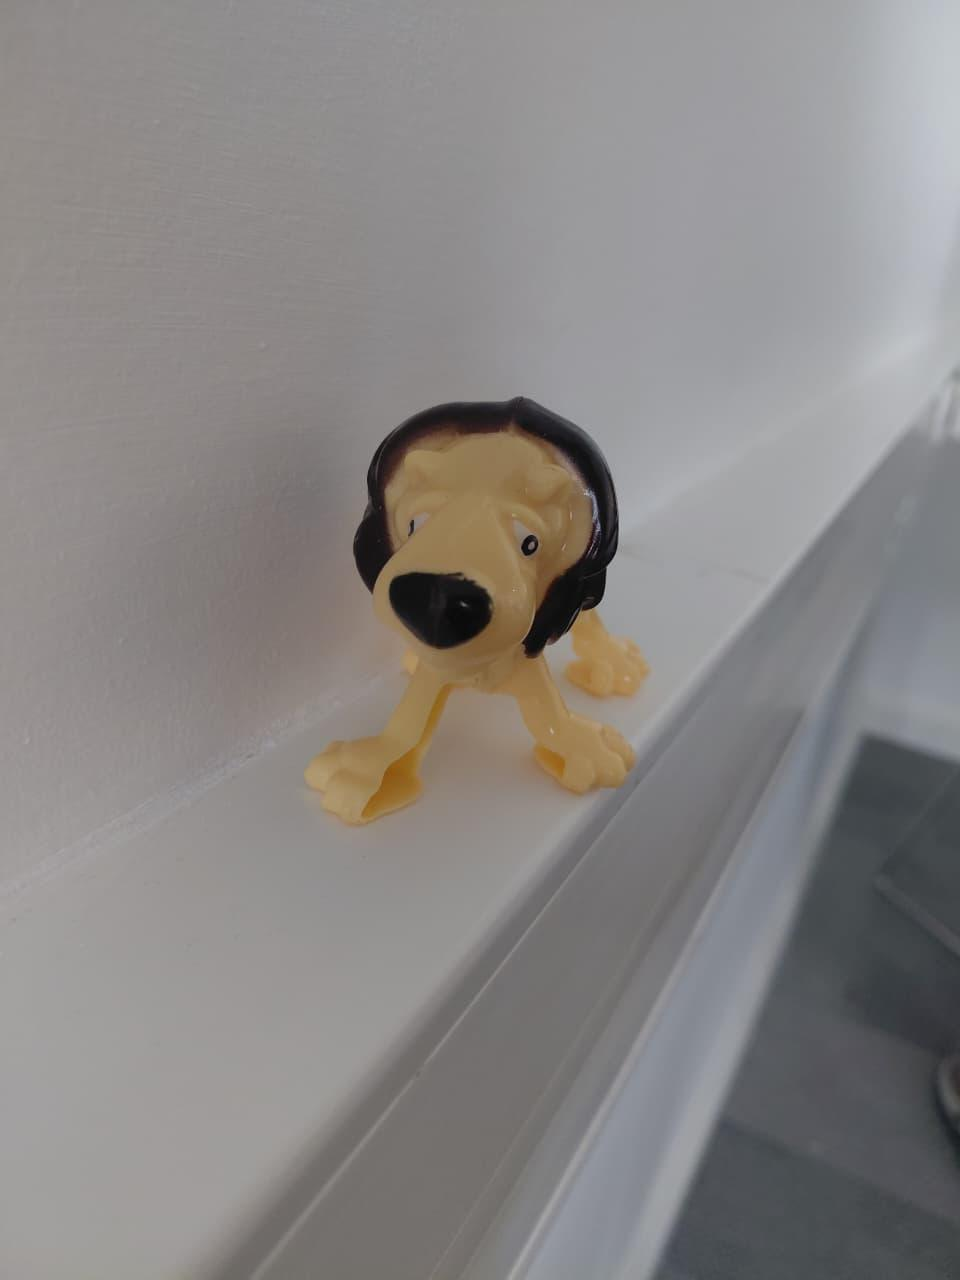lion: (282, 343, 740, 855)
